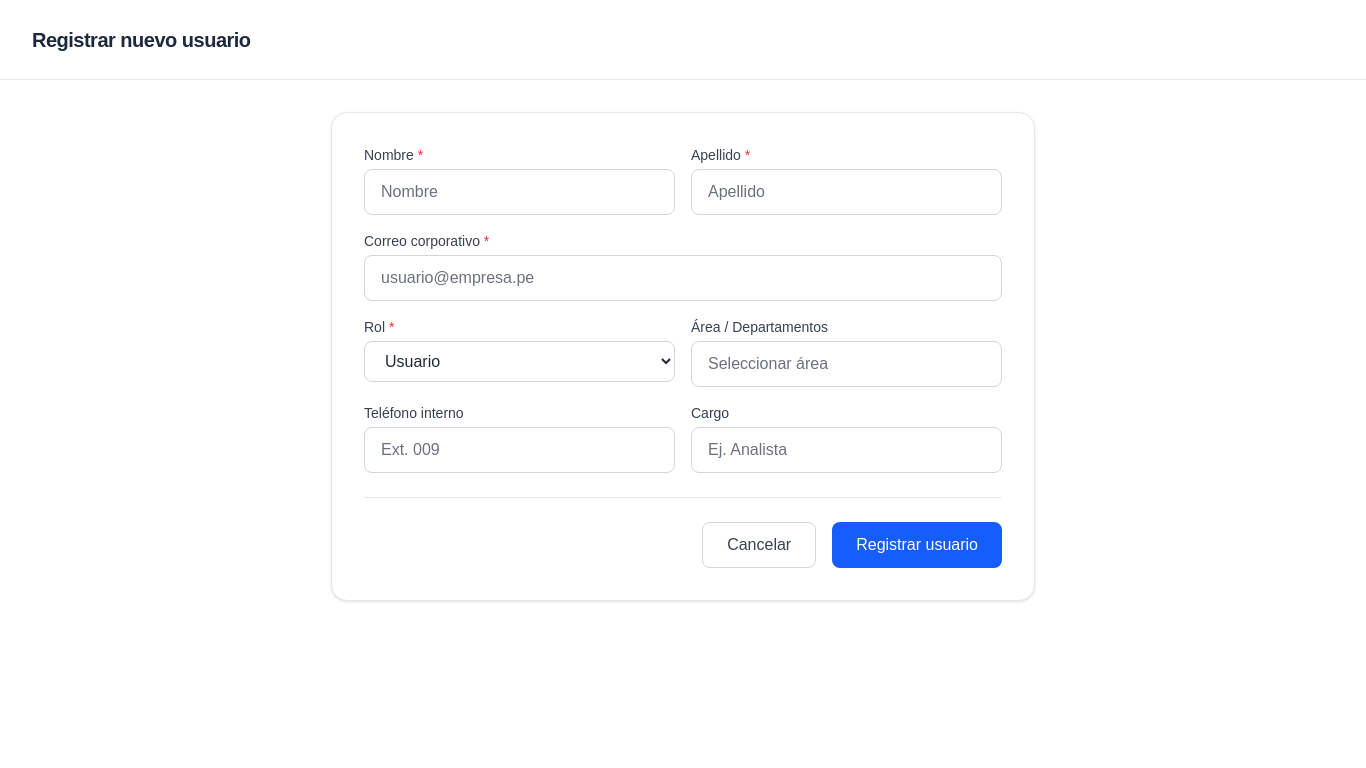
Scenario: RegisterUserPage (Formulario de Registro) › debe registrar el usuario correctamente y redirigir a /admin/usuarios
Type "Ana" into the field with placeholder "Nombre" at (520, 192), box [364,169,675,215]
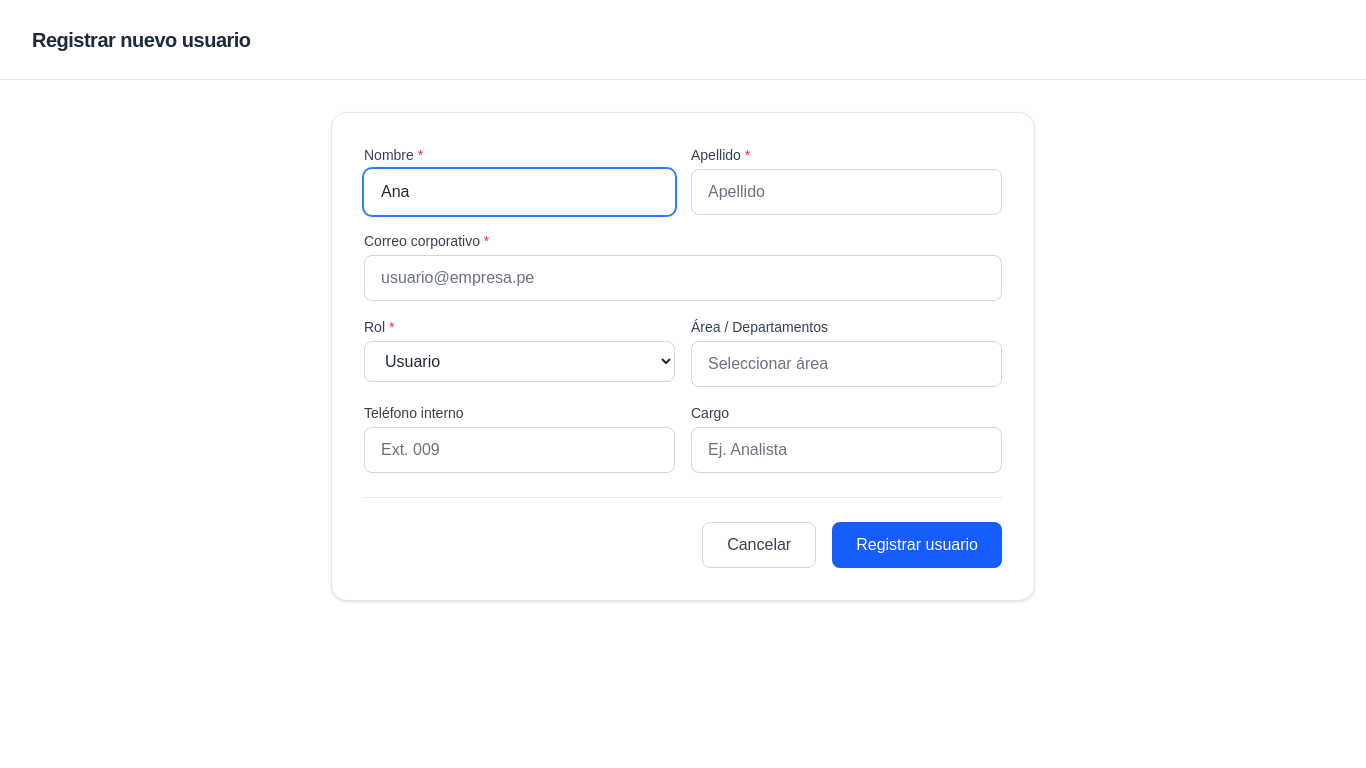
Type "Gomez" into the field with placeholder "Apellido" at (846, 192), box [691,169,1002,215]
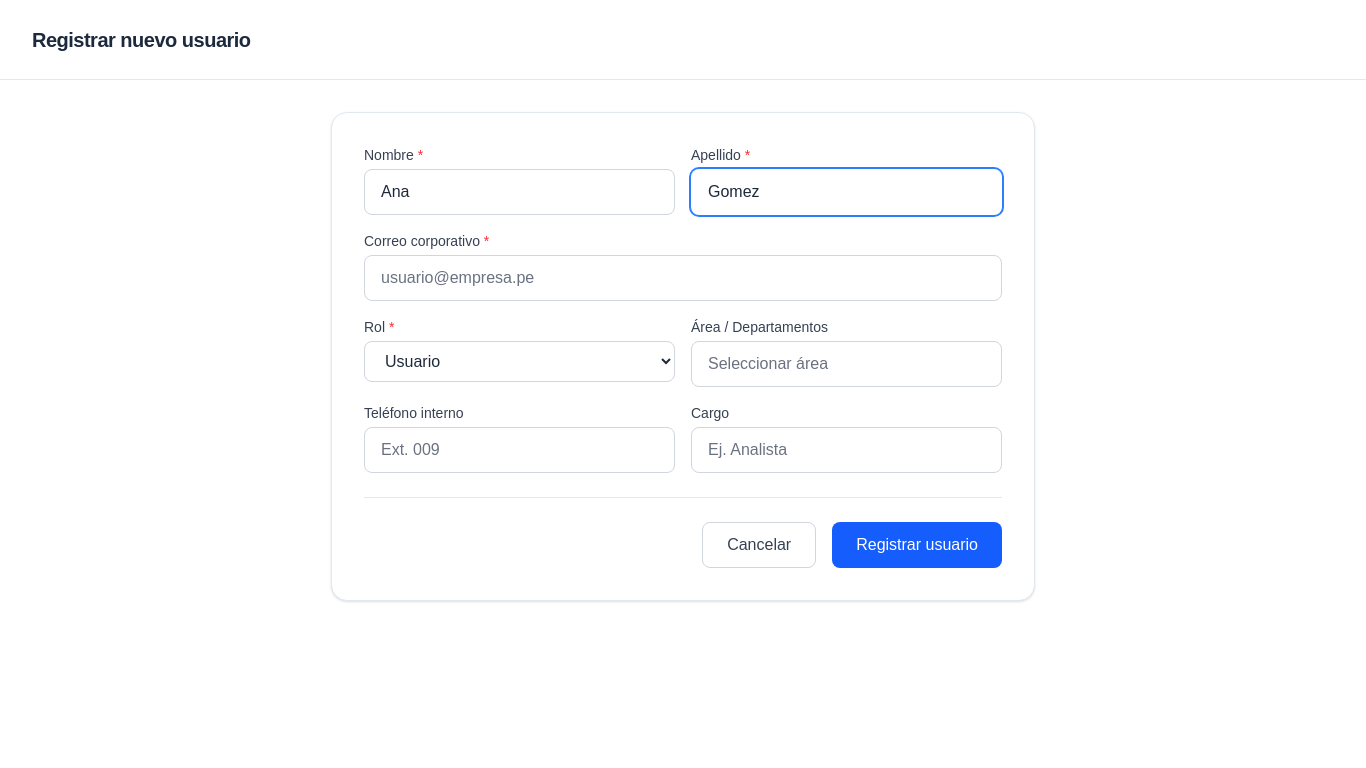
Type "ana@empresa.pe" into the field with placeholder "usuario@empresa.pe" at (683, 278), box [364,255,1002,301]
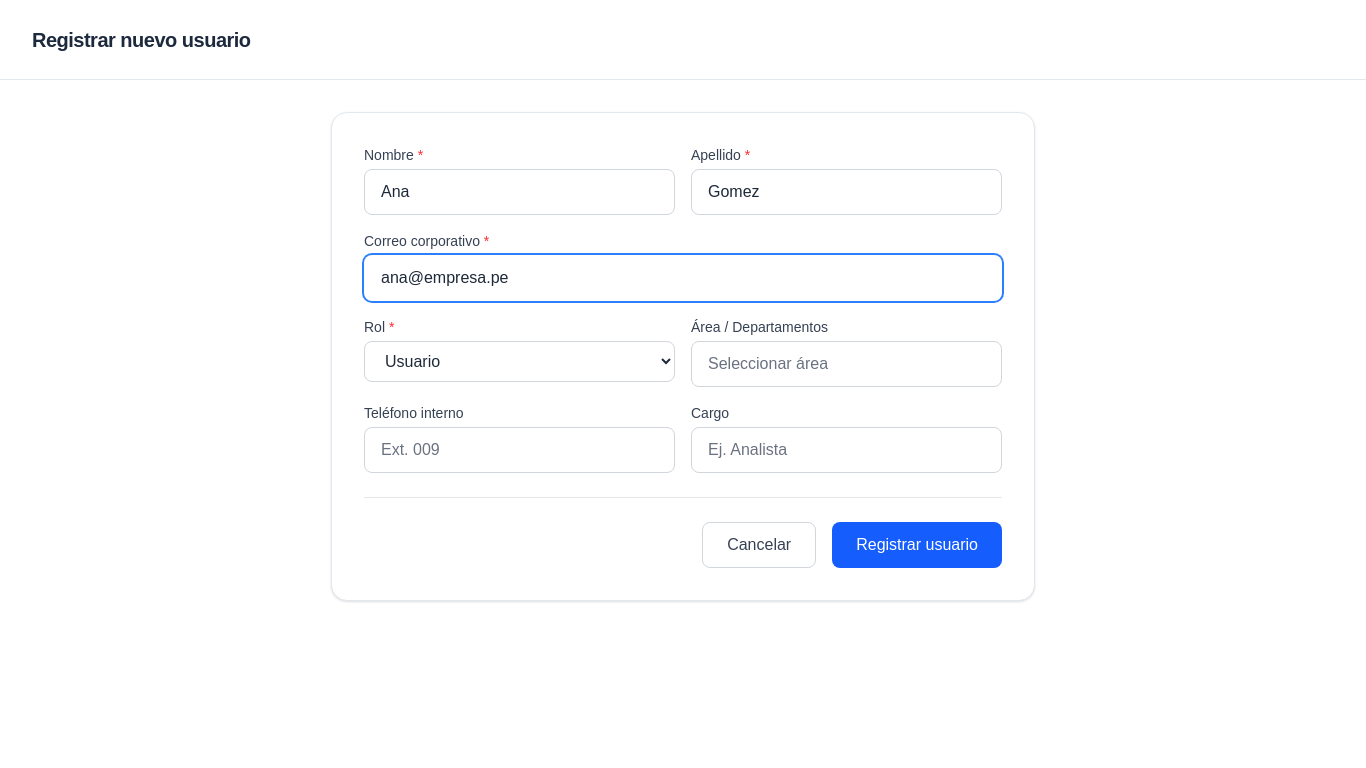
Click the button "Registrar usuario" at (917, 545), box [832,522,1002,568]
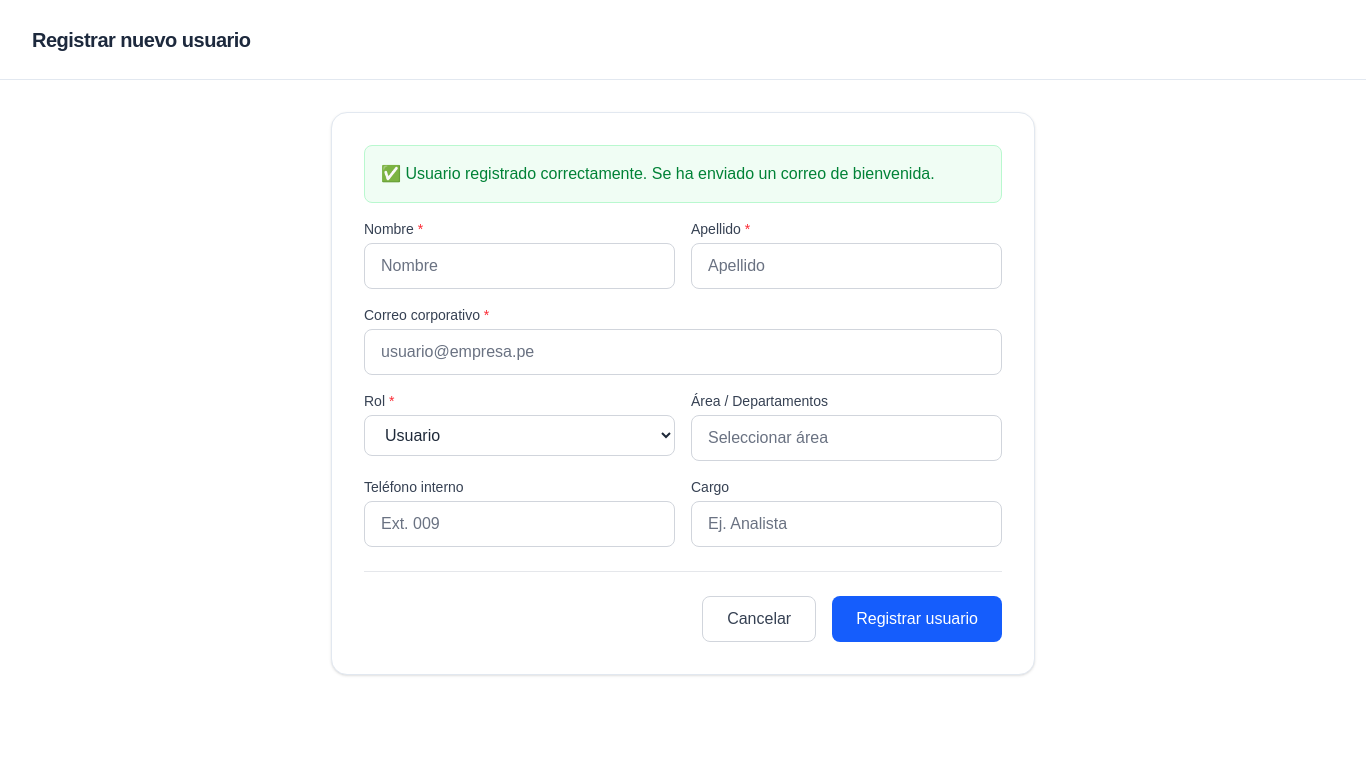
Result: the text "Usuario registrado correctamente" is shown at [381,165,935,182]
